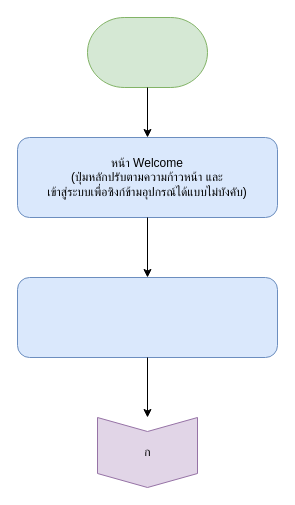
The diagram is 295 pixels wide and 505 high, and some of its shapes have lost their labels. Each missing label, with the box of its shape:
Mission Map (เลือกด่านที่ปลดล็อก — ด่านแรกคือ ด่านปฐมนิเทศ รู้จักสนามฝึก): (16, 276, 278, 358)
เริ่มต้น: (86, 16, 208, 88)
